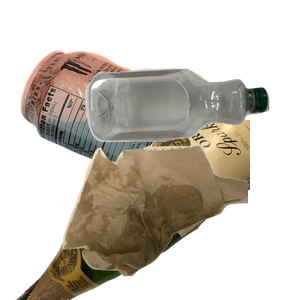glass: (13, 120, 253, 300)
metal: (18, 48, 258, 228)
plastic: (83, 66, 300, 201)
trash: (60, 142, 300, 300)
